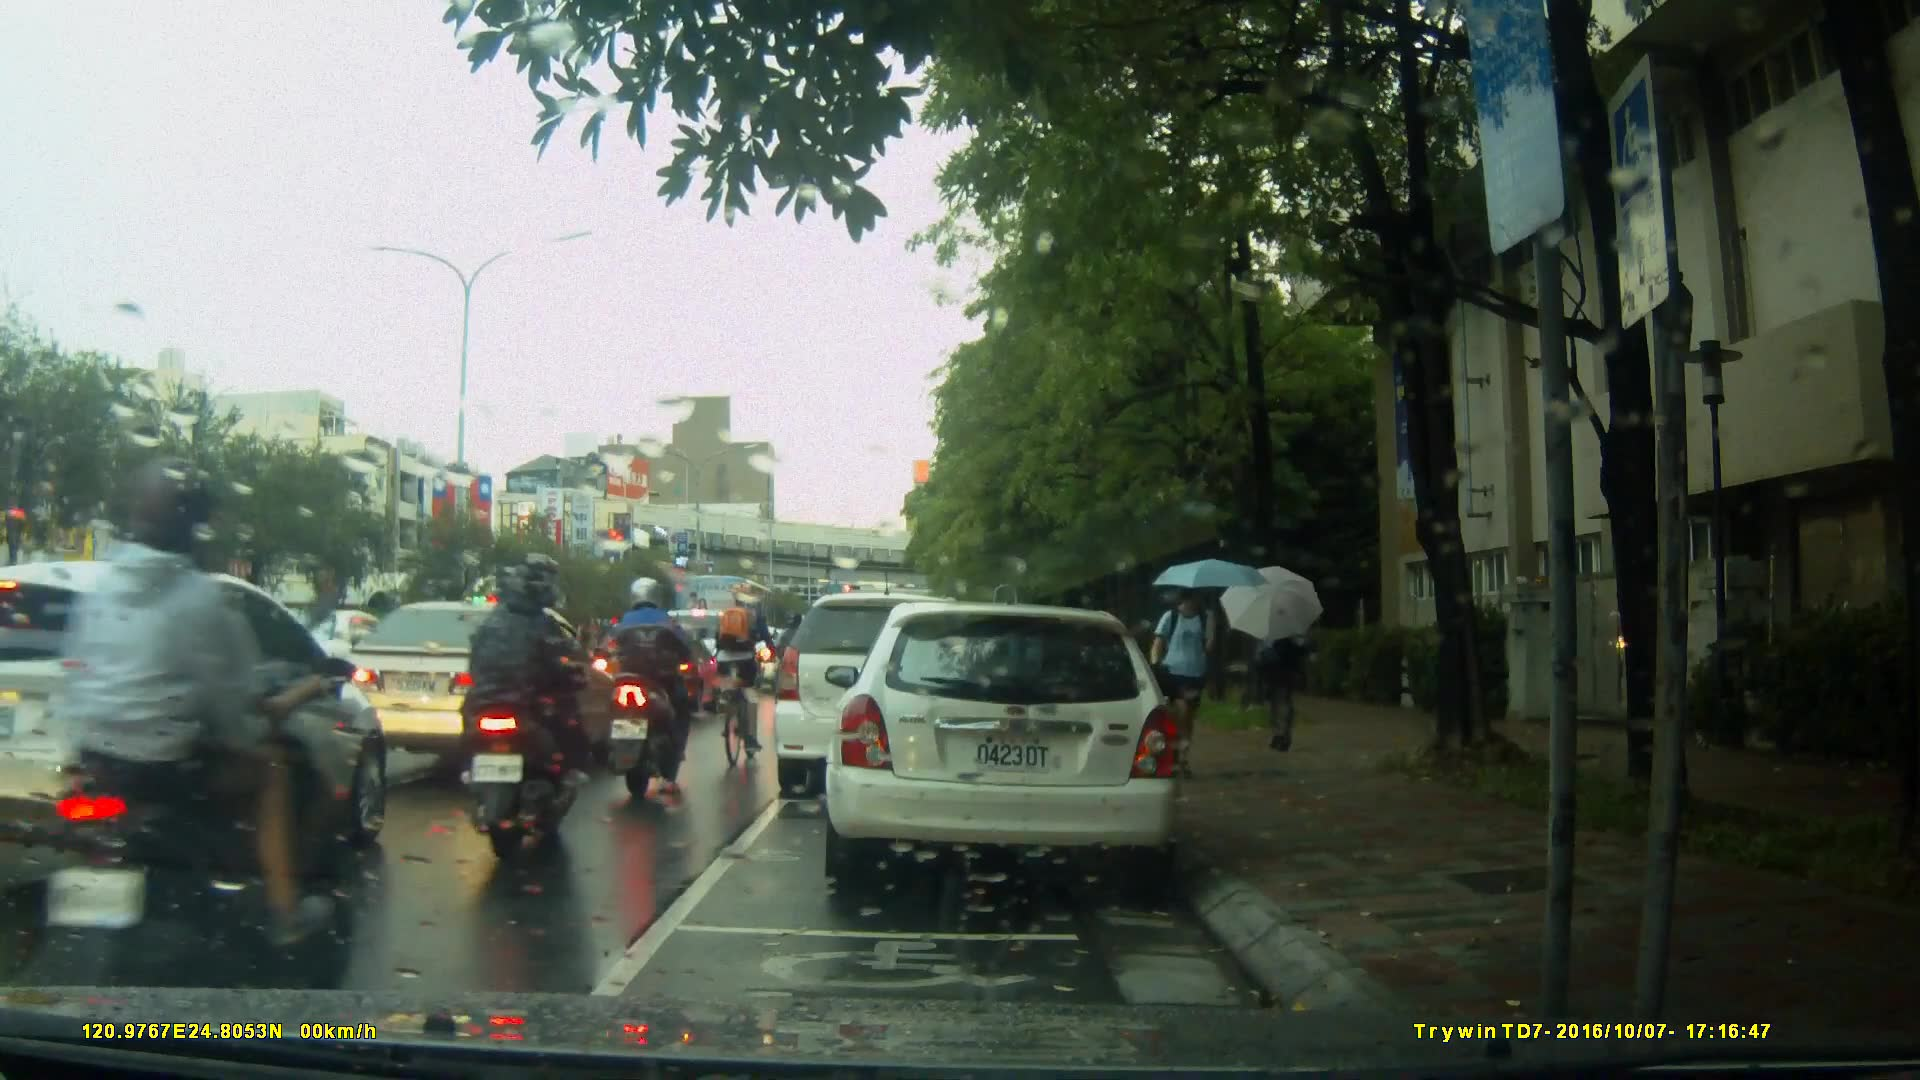pedestrian: (1157, 563, 1225, 795), (1262, 587, 1310, 753)
rider: (34, 465, 345, 1024), (470, 556, 594, 874), (611, 579, 711, 802), (723, 582, 784, 776)
vehicle: (1, 554, 394, 907), (835, 594, 1194, 898), (317, 594, 593, 790), (776, 590, 1026, 784), (588, 620, 718, 721), (671, 572, 790, 673)
